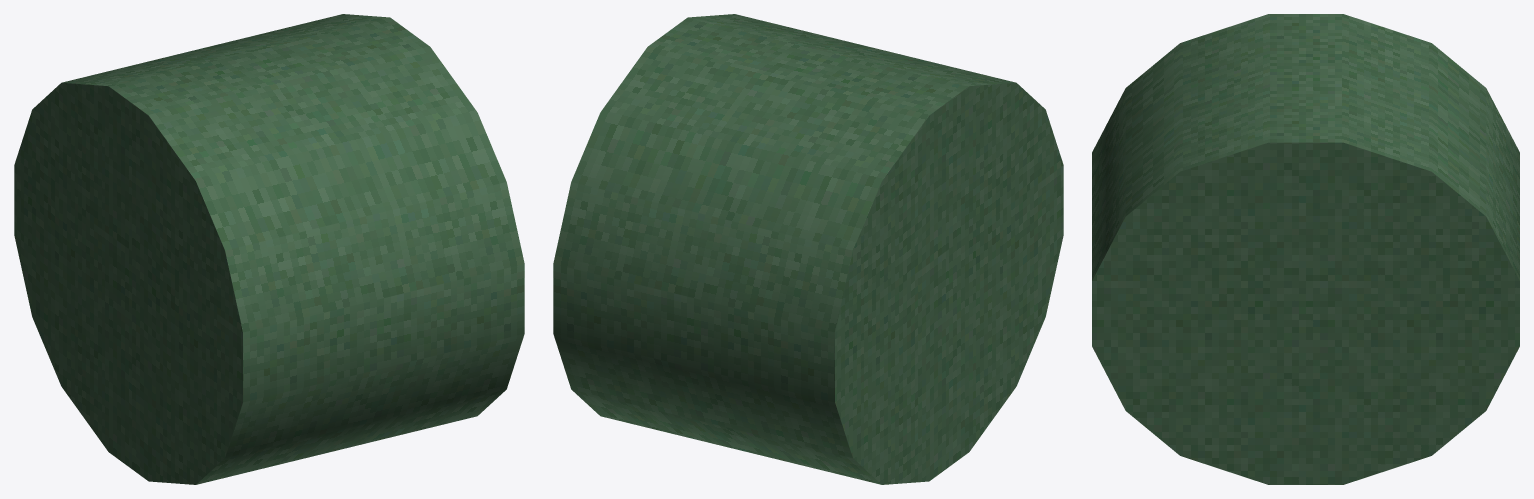
Rendered from Haybale.fbx.
3 views of the same model, side by side, from view 1: azimuth 30°, elevation 25°; view 2: azimuth 150°, elevation 25°; view 3: azimuth 270°, elevation 25° (orthographic). The views are drawn at different scales.
Parts seen in each view (by area): view 1: Haybale; view 2: Haybale; view 3: Haybale.
Part boxes in pixels (bbox=[...]): Haybale: bbox=[14, 14, 524, 484]; Haybale: bbox=[553, 14, 1063, 484]; Haybale: bbox=[1092, 14, 1519, 484].
Size of the model in its own units: 1.32 by 1.85 by 1.64.
